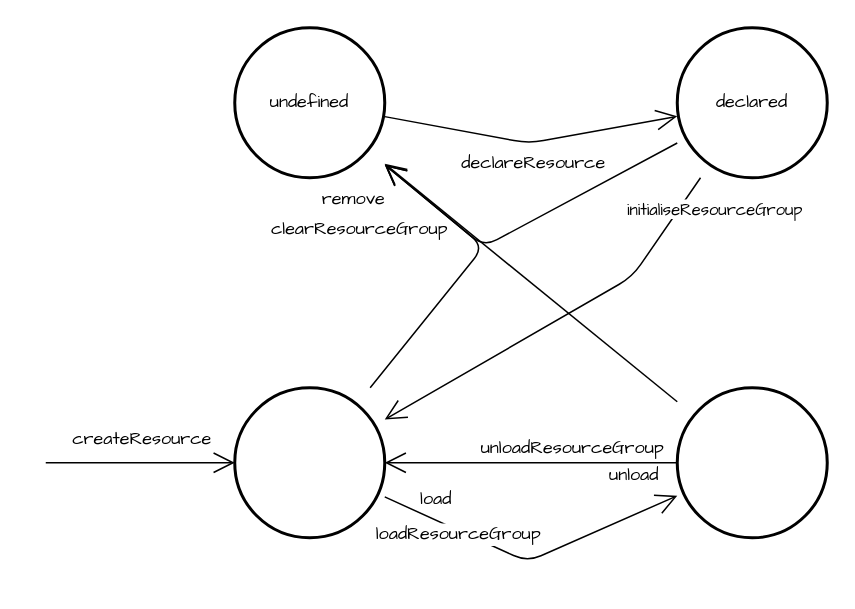
Image size: 855x609. Some labels were removed from this diagram. Each missing label, with the centre of its shape:
loaded: pixel 751 462
unloaded: pixel 309 462
